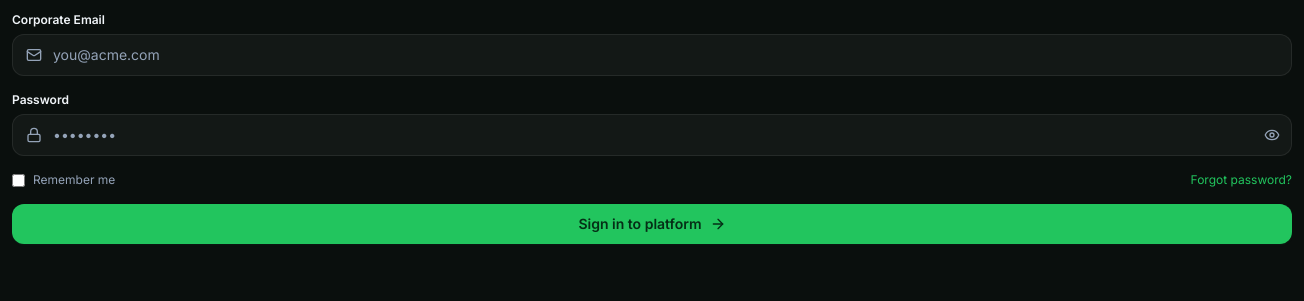
it: LoginForm › shows validation errors for an empty submission
This screenshot has width=1304, height=301.
Click the button "Sign in to platform": (652, 224) x1=12 y1=204 x2=1292 y2=244
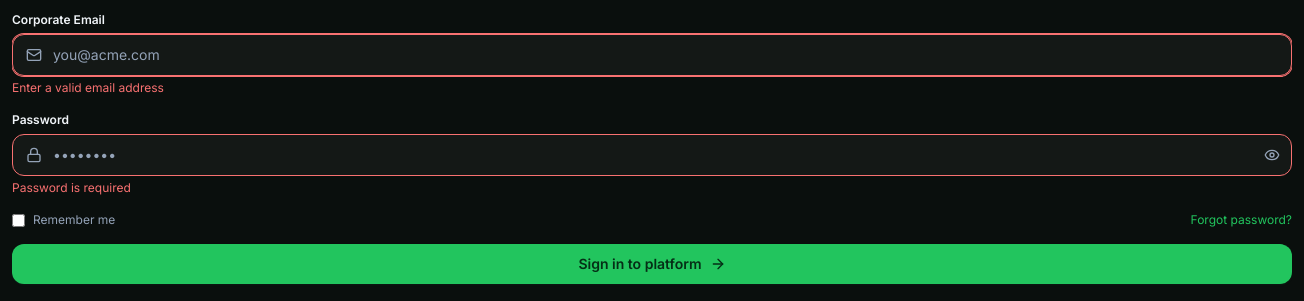
Expected: the text "Enter a valid email address" is shown, x1=12 y1=80 x2=164 y2=95
Expected: the text "Password is required" is shown, x1=12 y1=180 x2=131 y2=195
